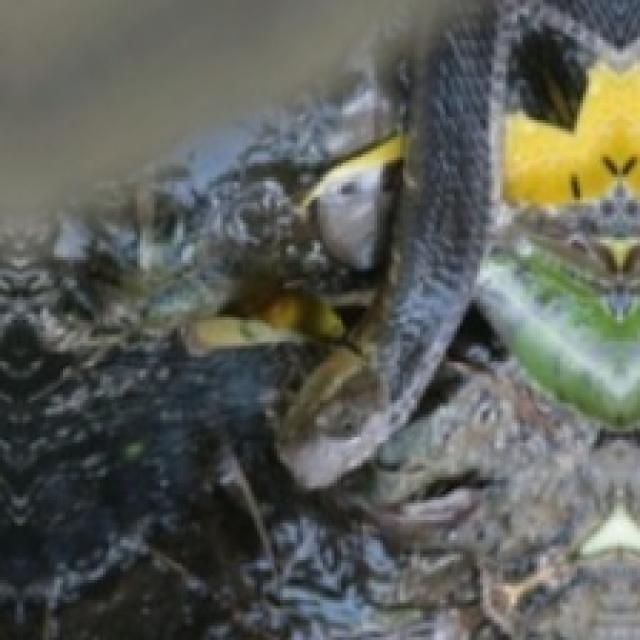king cobra: (274, 0, 637, 486)
